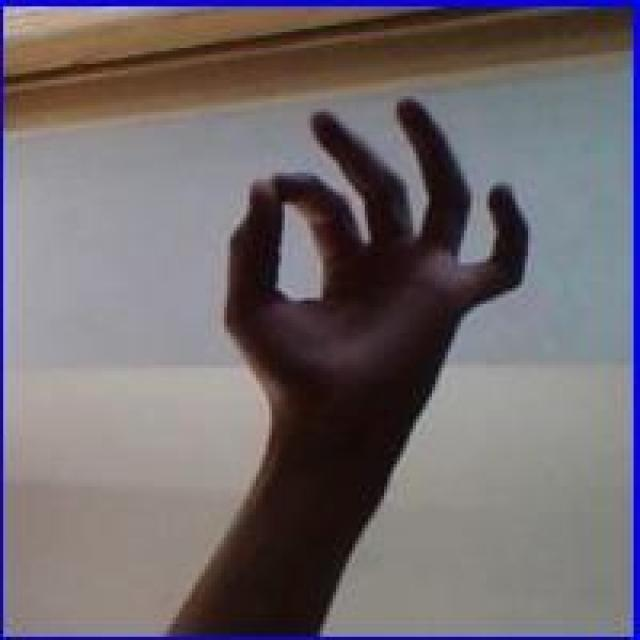F: (216, 93, 533, 448)
